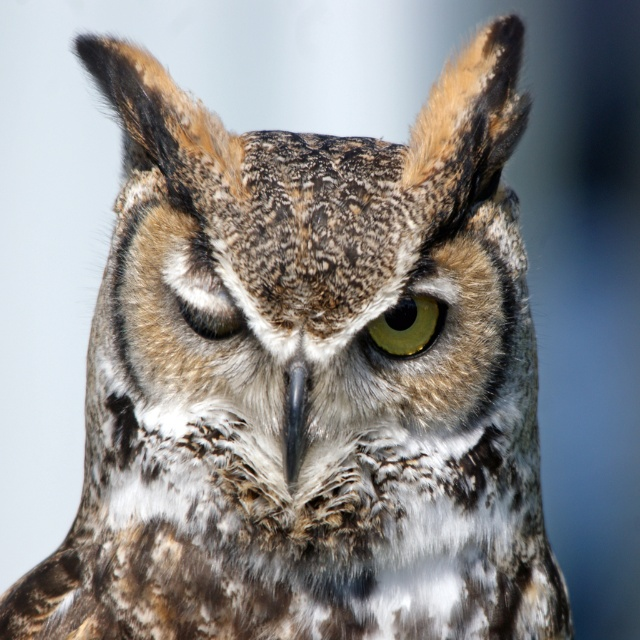Owl: (0, 14, 577, 640)
